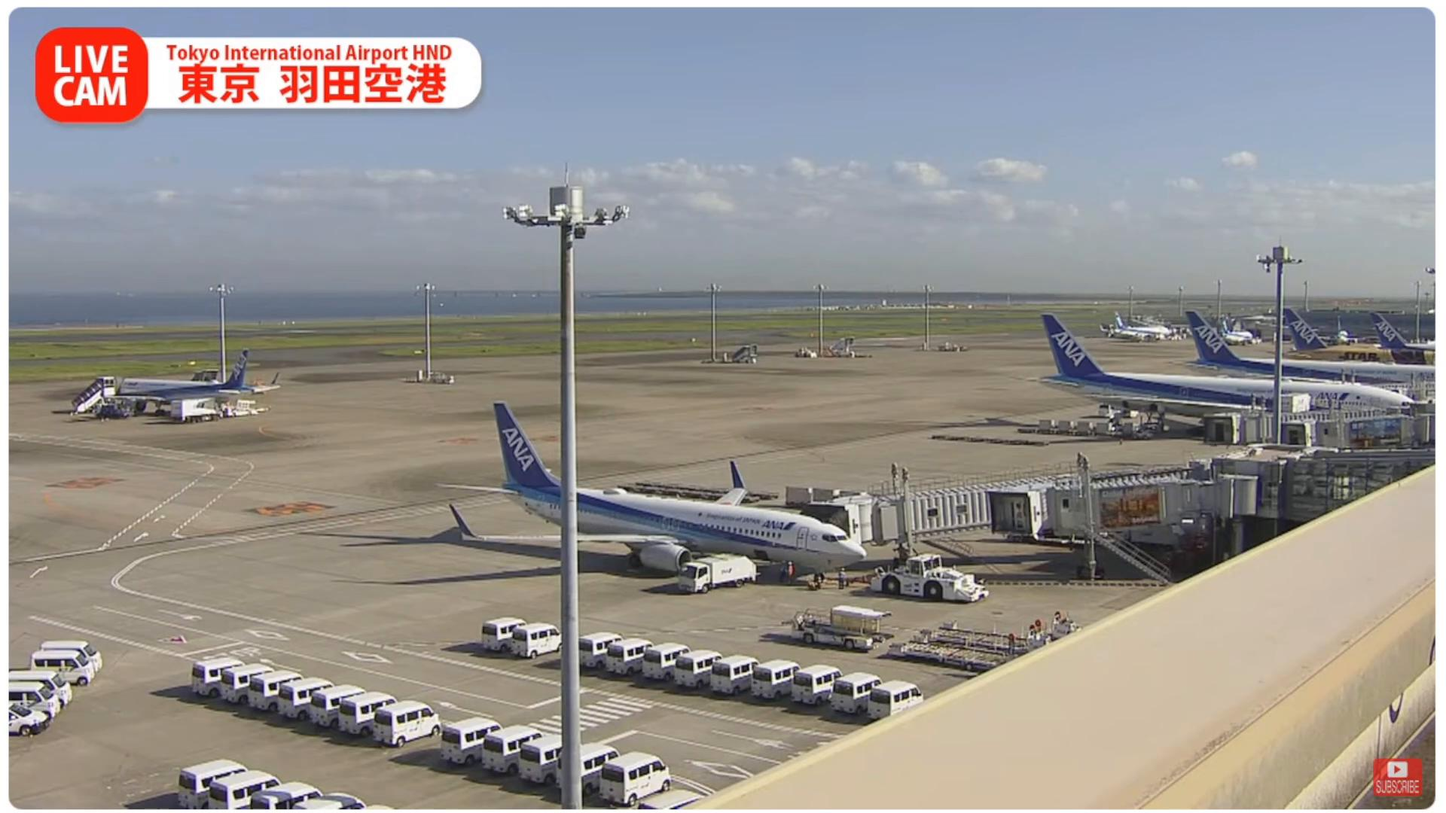APS: (871, 557, 985, 603)
Aerobridge: (802, 458, 1220, 543), (991, 451, 1256, 537)
Airplane: (438, 402, 868, 589)
Baggage truck: (679, 556, 760, 593)
JCPL: (918, 616, 1075, 656), (890, 639, 1018, 670)
Skyloader: (793, 603, 894, 653)
Window: (1290, 445, 1435, 519)
